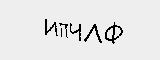И: (42, 17, 58, 38)
Л: (81, 23, 105, 44)
П: (57, 20, 69, 41)
Ф: (103, 19, 125, 46)
Ч: (67, 18, 84, 42)
